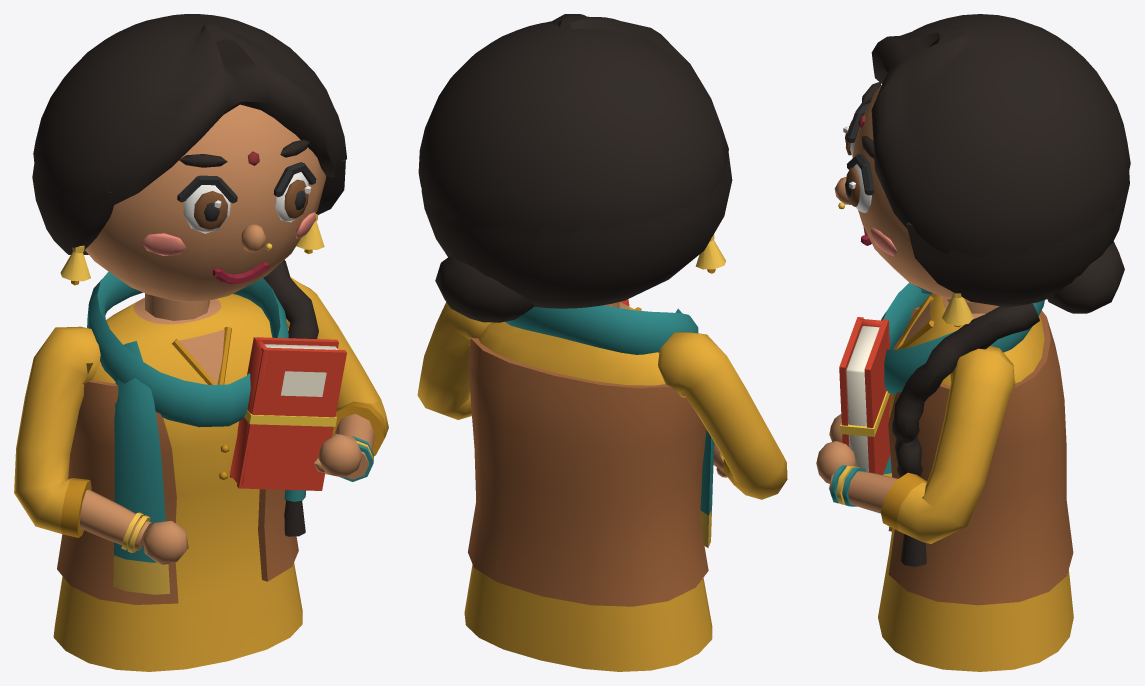
File: rani_idle.glb
The picture shows the model from 3 angles, left to right: view 1: azimuth 30°, elevation 25°; view 2: azimuth 150°, elevation 25°; view 3: azimuth 270°, elevation 25°; orthographic projection.
Visible parts, largest first — view 1: body, head, arm_l, arm_r; view 2: body, head, arm_r, arm_l; view 3: head, body, arm_l.
Part boxes in pixels (<box>): body: <box>53,260,318,671</box>; head: <box>32,14,346,301</box>; arm_l: <box>229,277,388,490</box>; arm_r: <box>14,326,188,564</box>; body: <box>464,302,714,671</box>; head: <box>418,14,732,322</box>; arm_r: <box>658,332,787,499</box>; arm_l: <box>417,299,629,419</box>; head: <box>834,14,1130,327</box>; body: <box>878,282,1073,671</box>; arm_l: <box>816,317,1015,543</box>.
Bounding box in the file's own units: 0.9425 × 1.48 × 0.7061.
Materials: 1 (1 with a texture image).
